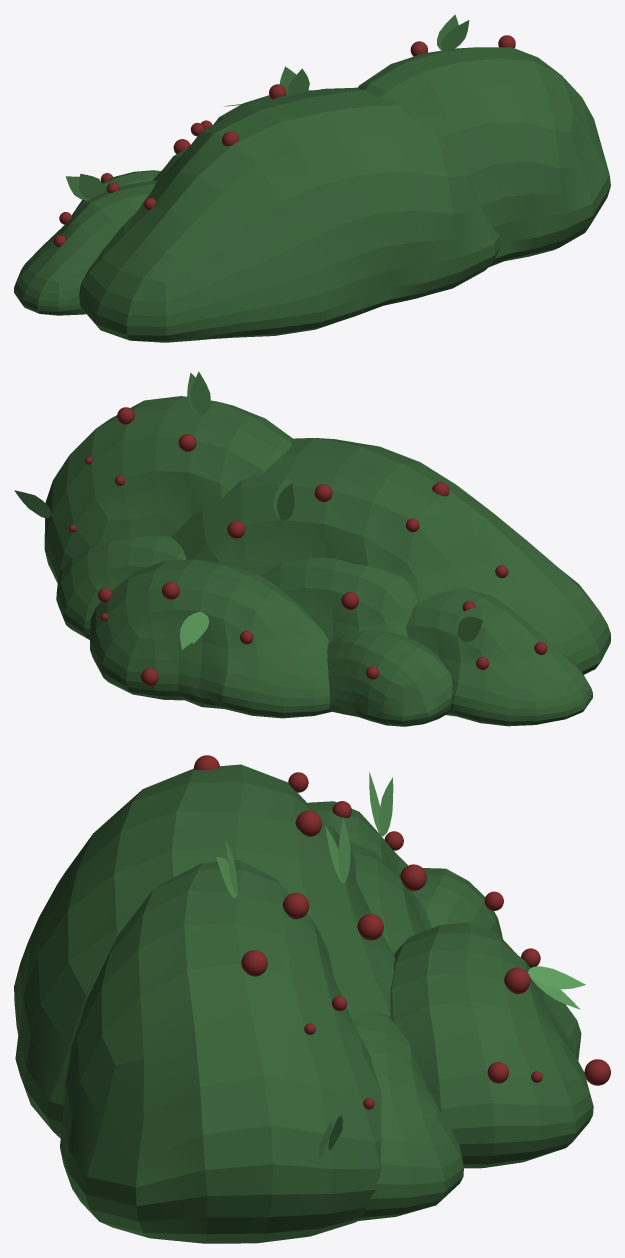
The model's file is BushesA.fbx.
The picture shows the model from 3 angles, top to bottom: view 1: azimuth 30°, elevation 25°; view 2: azimuth 150°, elevation 25°; view 3: azimuth 270°, elevation 25°; orthographic projection. The views are drawn at different scales.
Parts seen in each view (by area): view 1: pSphere24; view 2: pSphere24; view 3: pSphere24.
Part boxes in pixels (x1,y1,x2,y2): pSphere24: (14, 14, 610, 342); pSphere24: (14, 371, 610, 726); pSphere24: (14, 755, 610, 1243).
Size of the model in its own units: 499 by 195 by 309.
